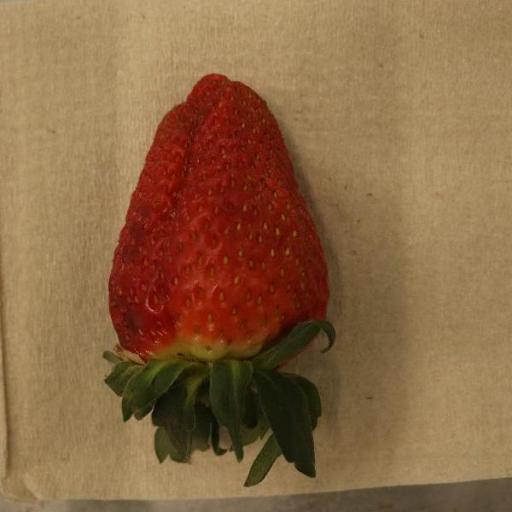Strawberry: (103, 74, 338, 480)
